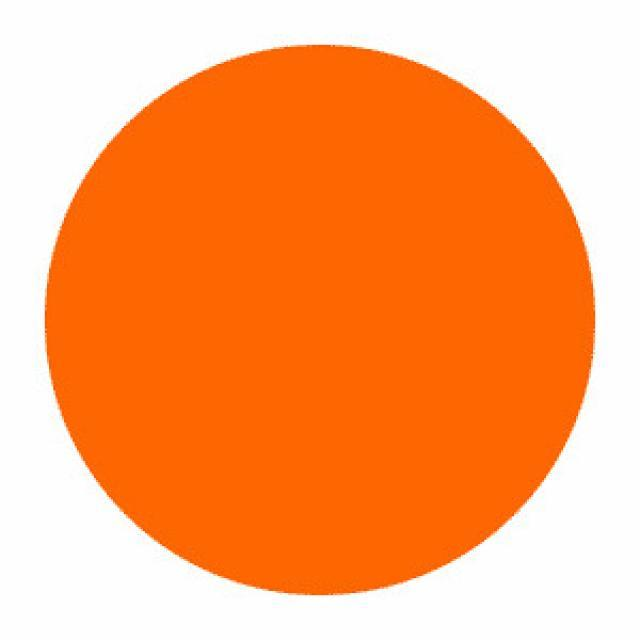Circle: (46, 46, 594, 593)
